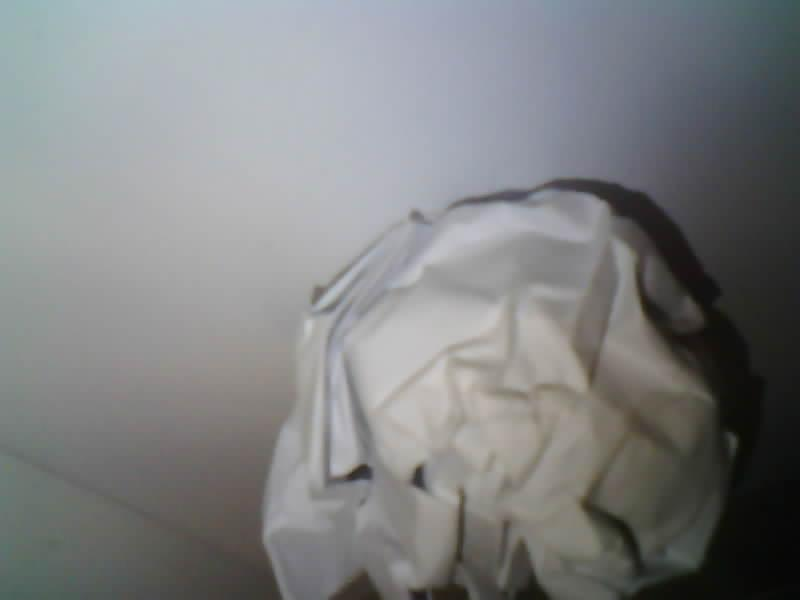biodegradable: (263, 182, 754, 599)
